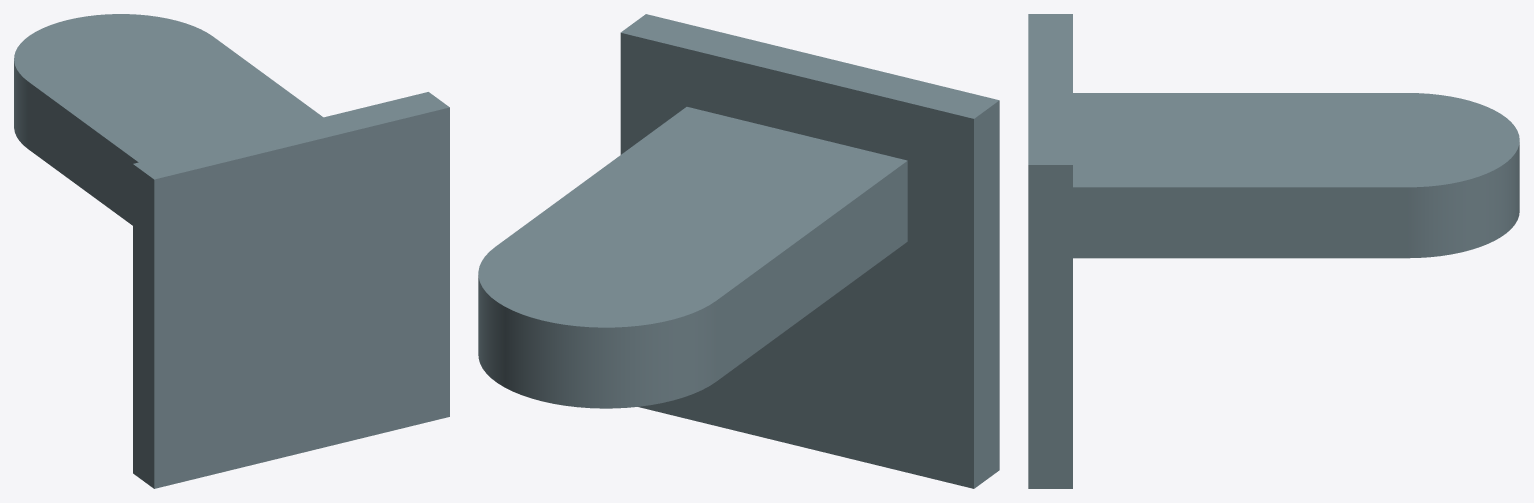
File: step_02.glb
3 views of the same model, side by side, from view 1: azimuth 30°, elevation 25°; view 2: azimuth 150°, elevation 25°; view 3: azimuth 270°, elevation 25° (orthographic). The views are drawn at different scales.
Parts seen in each view (by area): view 1: part__actuator bracket; view 2: part__actuator bracket; view 3: part__actuator bracket.
Part boxes in pixels (<box>): part__actuator bracket: <box>14,14,449,488</box>; part__actuator bracket: <box>478,14,999,488</box>; part__actuator bracket: <box>1028,14,1519,488</box>.
Size of the model in its own units: 160 by 160 by 220.
